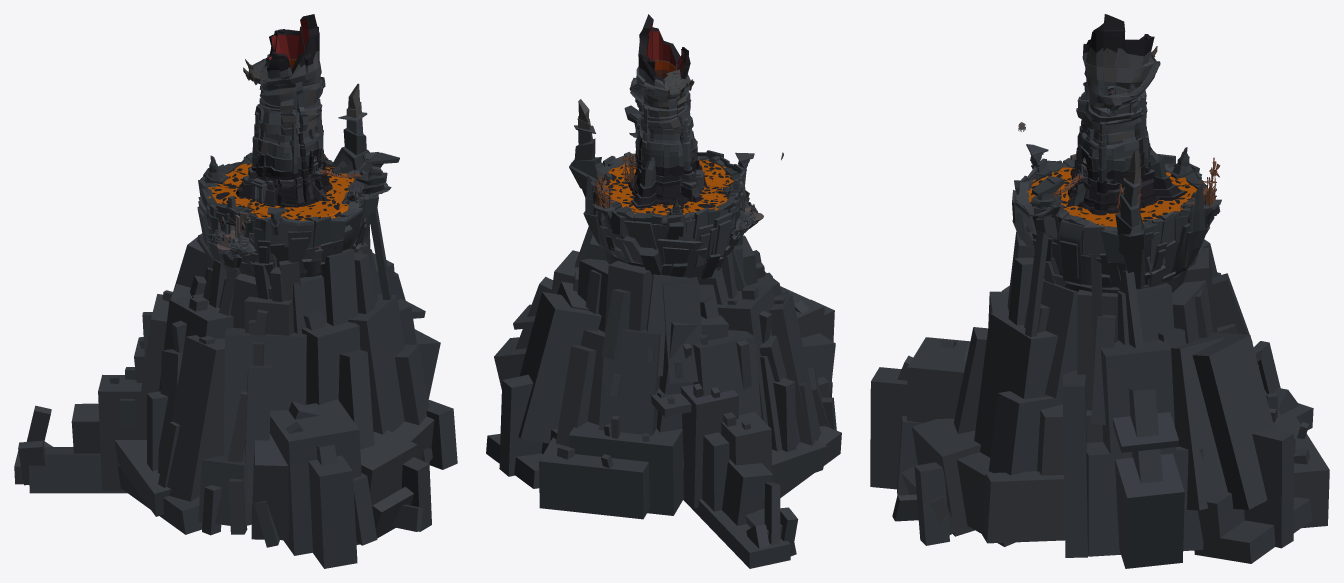
The model's file is Complete lvl 5 all segments.fbx.
The picture shows the model from 3 angles, left to right: view 1: azimuth 30°, elevation 25°; view 2: azimuth 150°, elevation 25°; view 3: azimuth 270°, elevation 25°; orthographic projection. The views are drawn at different scales.
Visible parts, largest first — view 1: Segment_1, segment_5, deksel_segment_1, segment_3, segment_2; view 2: Segment_1, segment_5, deksel_segment_1, segment_2, segment_3; view 3: Segment_1, segment_5, segment_3, segment_2, deksel_segment_1.
Part boxes in pixels (bbox=[...]): Segment_1: bbox=[14, 83, 457, 568]; segment_5: bbox=[243, 14, 325, 135]; deksel_segment_1: bbox=[208, 163, 354, 220]; segment_3: bbox=[252, 109, 322, 180]; segment_2: bbox=[235, 130, 353, 206]; Segment_1: bbox=[486, 99, 841, 568]; segment_5: bbox=[629, 14, 694, 134]; deksel_segment_1: bbox=[600, 160, 733, 215]; segment_2: bbox=[621, 122, 707, 208]; segment_3: bbox=[635, 105, 699, 176]; Segment_1: bbox=[870, 144, 1329, 568]; segment_5: bbox=[1076, 14, 1160, 130]; segment_3: bbox=[1074, 90, 1150, 183]; segment_2: bbox=[1057, 126, 1185, 213]; deksel_segment_1: bbox=[1026, 166, 1197, 226].
Size of the model in its own units: 185 by 232 by 182.
